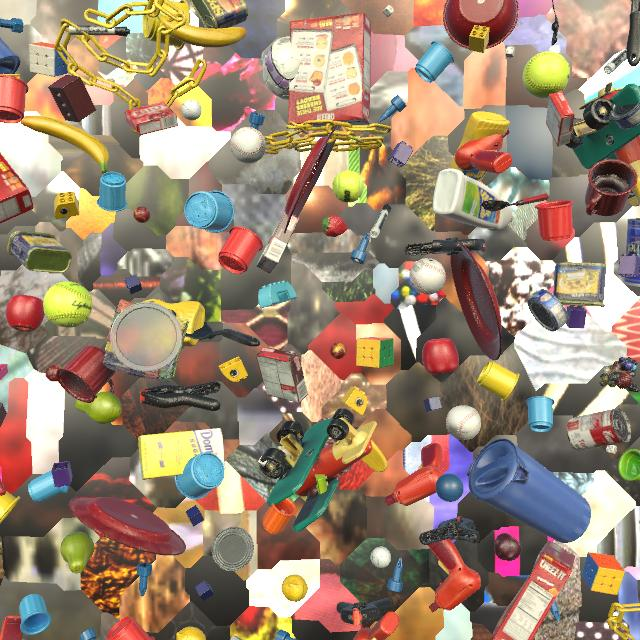ycb_002_master_chef_can: (624, 218, 640, 287)
ycb_003_cracker_box: (288, 12, 371, 127), (493, 541, 575, 640), (0, 153, 33, 223)
ycb_004_sugar_box: (138, 428, 225, 480)
ycb_005_tomato_soup_can: (566, 408, 631, 451)
ycb_006_mustard_bottle: (450, 111, 510, 182), (143, 299, 205, 346), (632, 176, 640, 206)
ycb_007_tuna_fish_can: (212, 527, 254, 571), (528, 289, 569, 331), (610, 86, 640, 130)
ycb_008_pudding_box: (256, 347, 308, 403), (257, 212, 300, 273)
ycb_009_gelatin_box: (125, 102, 178, 135), (546, 91, 575, 147)
ycb_010_potted_meat_can: (7, 231, 72, 273), (553, 262, 606, 307), (190, 0, 248, 29)
ycb_011_banana: (21, 116, 109, 174), (154, 12, 247, 48)
ycb_012_strawberry: (322, 215, 347, 237)
ycb_013_apple: (6, 295, 45, 332), (422, 338, 459, 374)
ycb_014_lemon: (282, 575, 308, 602), (176, 627, 206, 640)
ycb_016_pear: (75, 392, 122, 424), (60, 531, 94, 573)
ycb_018_plum: (494, 533, 522, 561)
